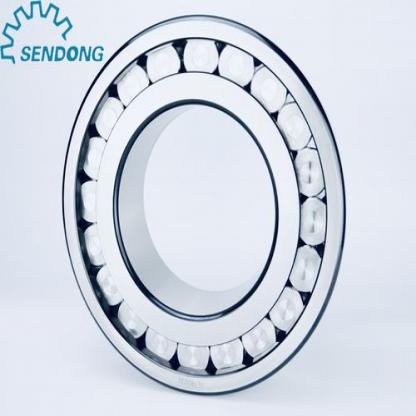FOD: (62, 10, 347, 399)
